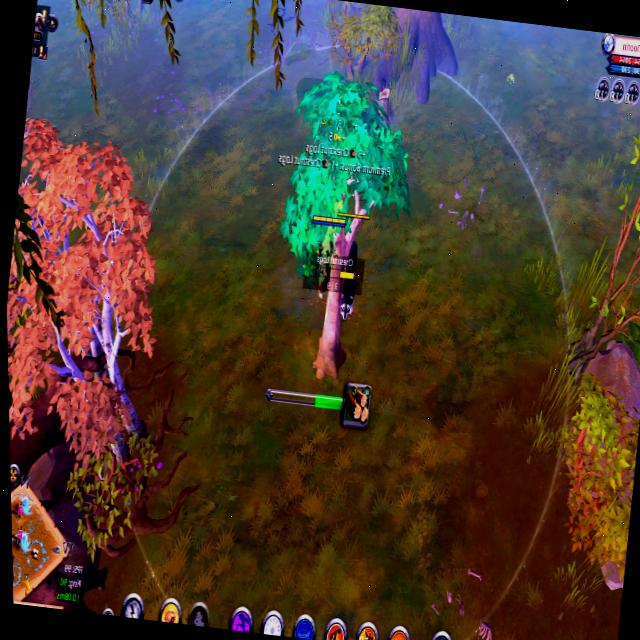red: (300, 205, 350, 303)
wisp caged: (2, 92, 197, 503), (247, 60, 427, 396)
